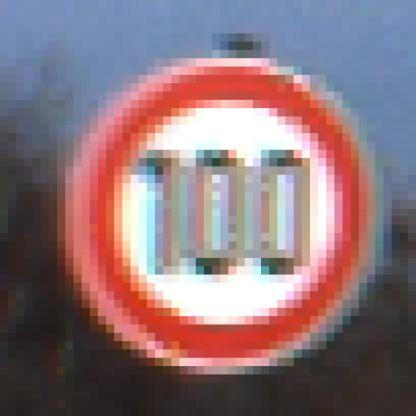Speed Limit -100-: (77, 53, 361, 359)
